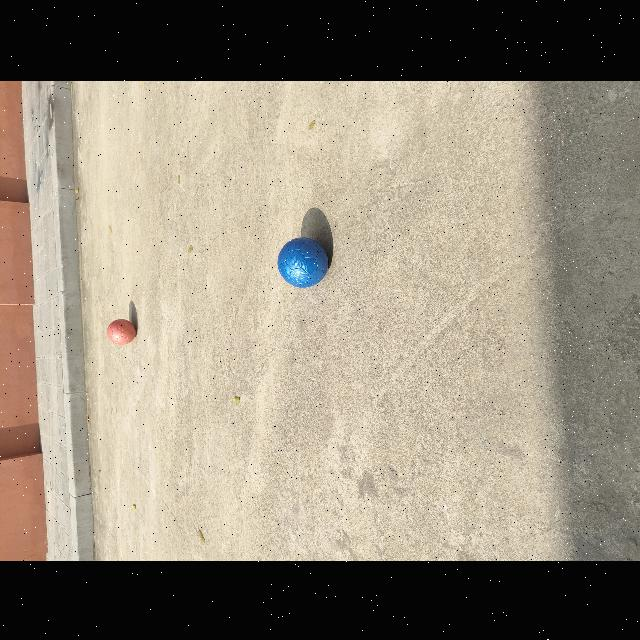B: (278, 236, 328, 286)
R: (107, 319, 137, 345)
